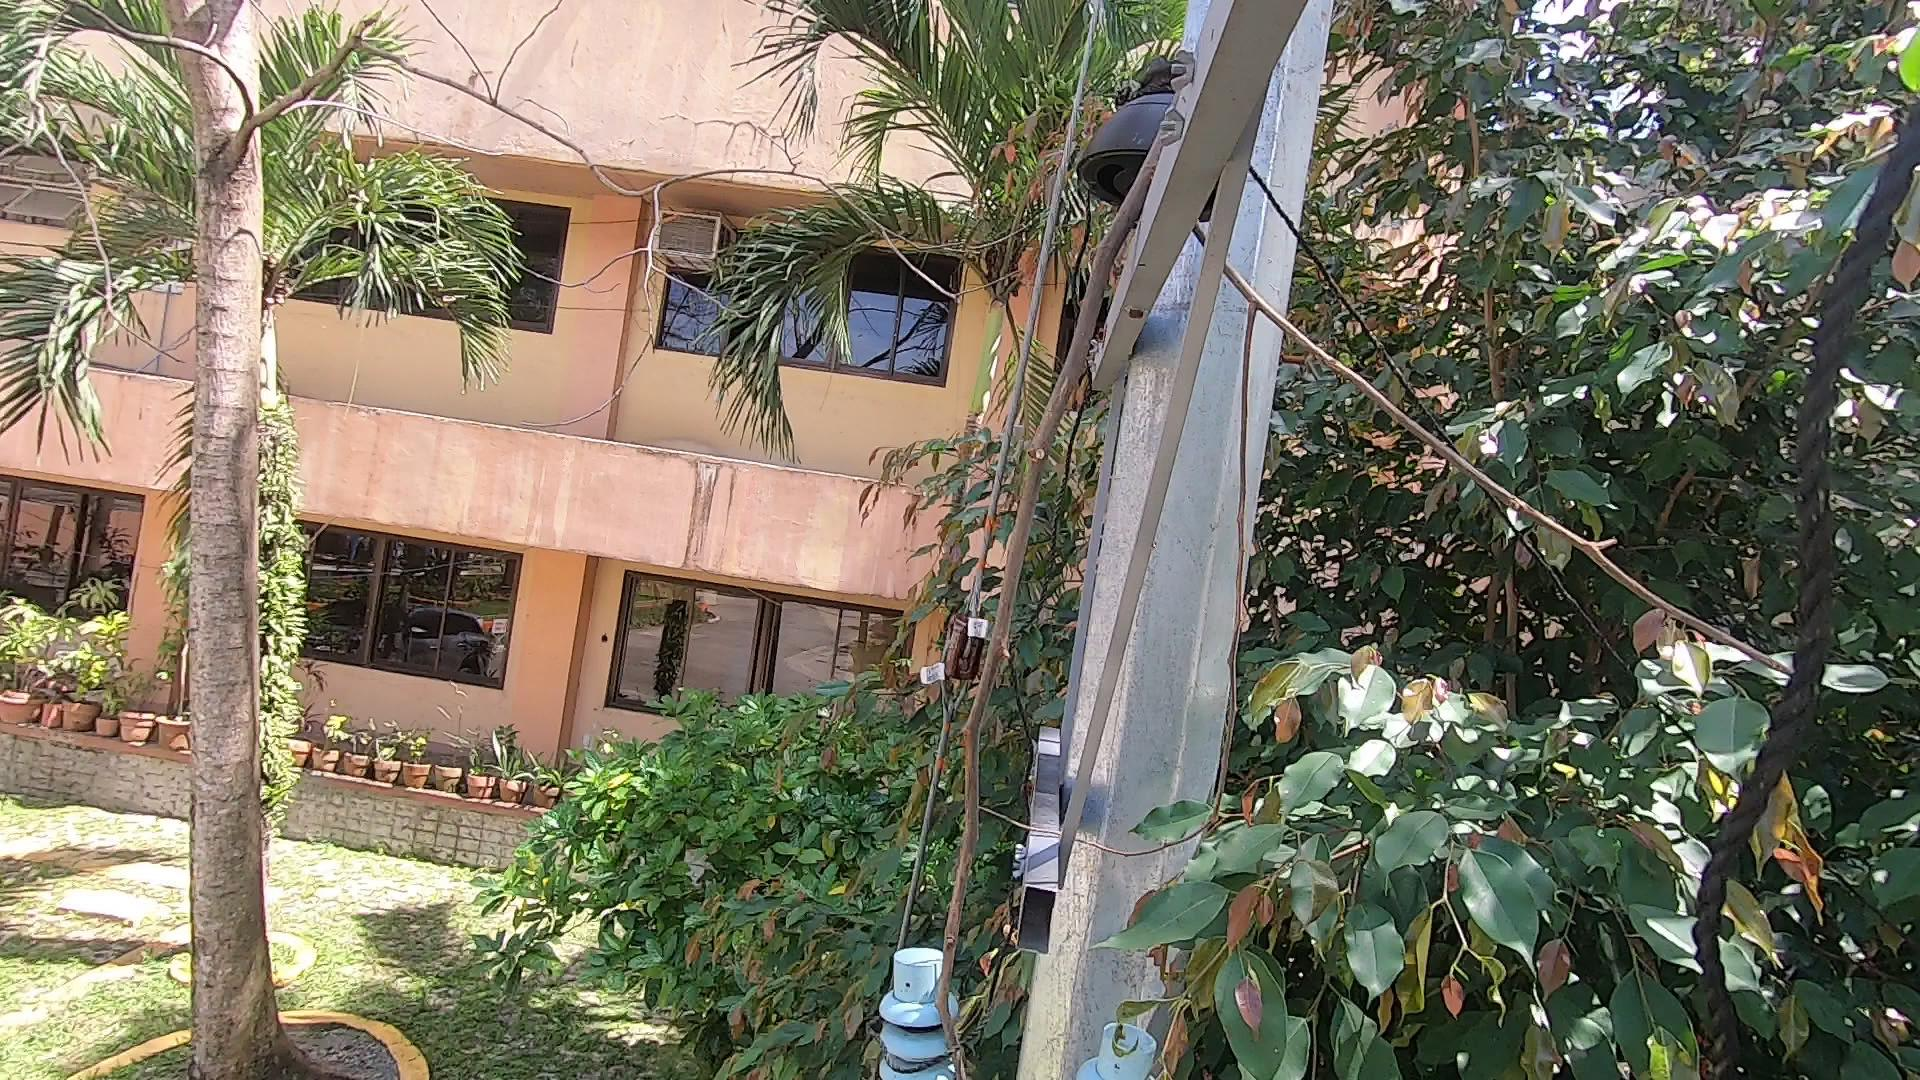branch with leaves: (1095, 787, 1387, 1080)
tree branch: (935, 69, 1124, 1080)
